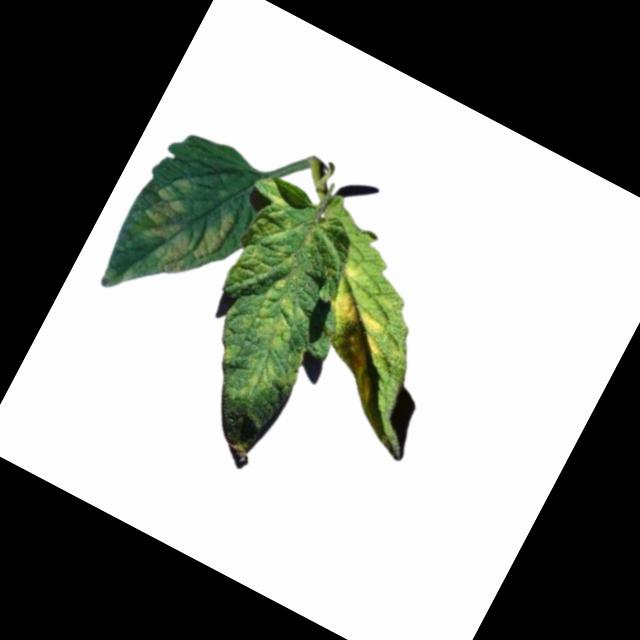Leaf_Mold: (117, 161, 244, 291), (212, 270, 321, 411), (294, 285, 409, 408), (219, 194, 316, 306), (339, 260, 367, 286)
